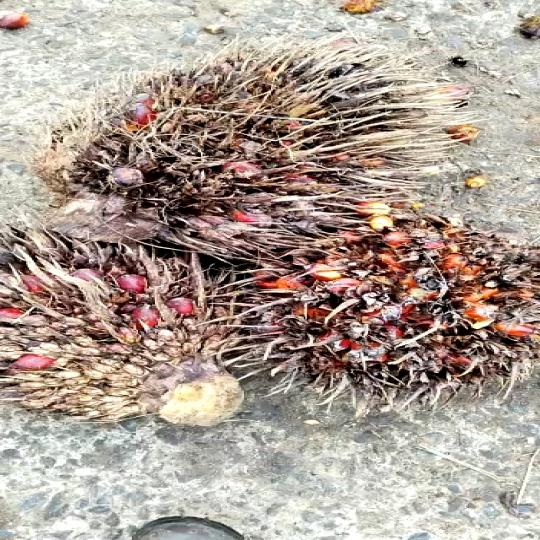terlalu masak: (34, 48, 437, 249), (209, 204, 540, 413), (0, 238, 267, 440)
